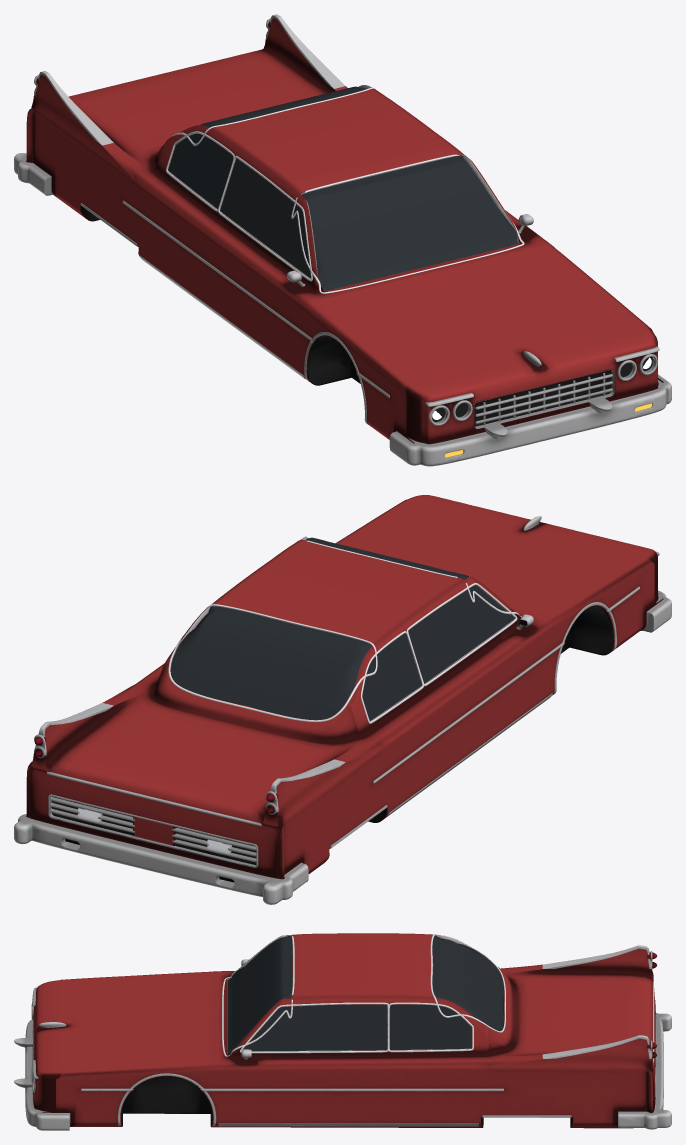
Rendered from jukebox.glb.
3 renders of one model, top to bottom at view 1: azimuth 30°, elevation 25°; view 2: azimuth 150°, elevation 25°; view 3: azimuth 270°, elevation 25°, orthographic. The views are drawn at different scales.
Visible parts, largest first — view 1: paint, window, chrome (×2), grille, trim; view 2: paint, window, chrome (×2), trim, grille; view 3: paint, window, chrome (×2), trim.
Part boxes in pixels (bbox=[...]): paint: bbox=[26, 18, 663, 444]; window: bbox=[168, 86, 518, 290]; chrome (×2): bbox=[14, 14, 671, 466]; grille: bbox=[474, 370, 611, 426]; trim: bbox=[80, 205, 360, 385]; paint: bbox=[26, 495, 663, 879]; window: bbox=[171, 537, 515, 720]; chrome (×2): bbox=[14, 516, 671, 904]; trim: bbox=[368, 606, 613, 822]; grille: bbox=[51, 796, 256, 864]; paint: bbox=[32, 933, 655, 1128]; window: bbox=[227, 935, 503, 1053]; chrome (×2): bbox=[14, 934, 671, 1130]; trim: bbox=[121, 1076, 572, 1127].
Size of what is drawn, in the model's own units: 2.19 by 1.16 by 5.76.
